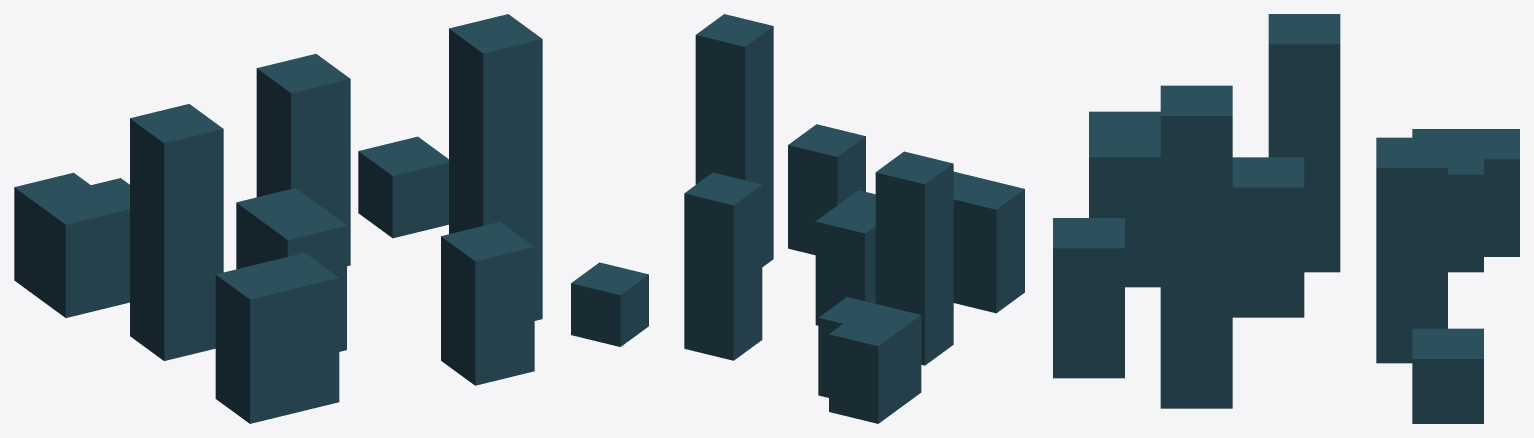
The model's file is grass_deco.glb.
3 views of the same model, side by side, from view 1: azimuth 30°, elevation 25°; view 2: azimuth 150°, elevation 25°; view 3: azimuth 270°, elevation 25° (orthographic). The views are drawn at different scales.
Visible parts, largest first — view 1: grass_deco; view 2: grass_deco; view 3: grass_deco.
Boxes of the visible parts, x1=… form: grass_deco: x1=14, y1=14, x2=542, y2=423; grass_deco: x1=571, y1=14, x2=1024, y2=423; grass_deco: x1=1053, y1=14, x2=1519, y2=423.
Size of the model in its own units: 1.3 by 0.9 by 1.3.
